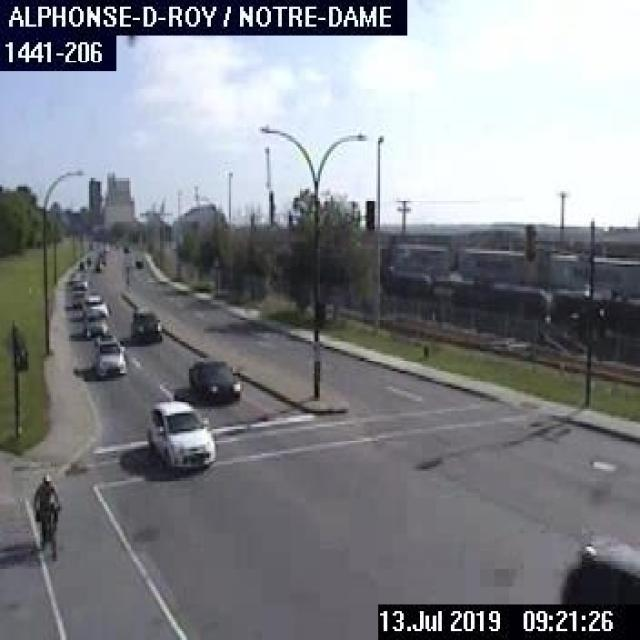cyclist: (31, 467, 60, 560)
vehicle: (142, 393, 217, 471), (560, 538, 638, 602), (185, 355, 243, 404), (88, 334, 125, 378), (127, 304, 164, 340), (80, 306, 109, 338), (68, 278, 88, 306), (81, 294, 109, 314)
